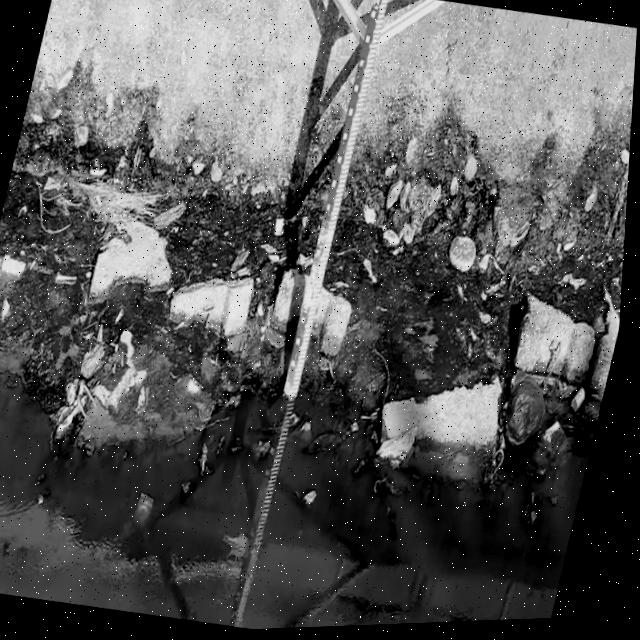water-meter: (274, 0, 396, 407)
